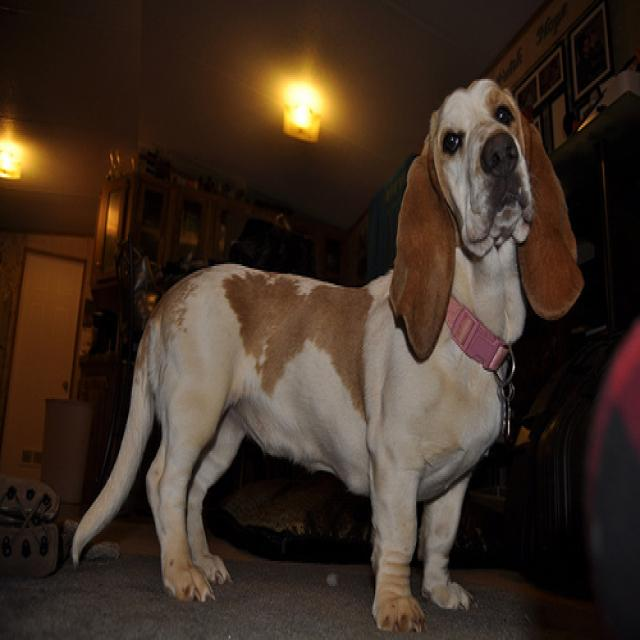dog-basset_hound: (59, 71, 588, 636)
